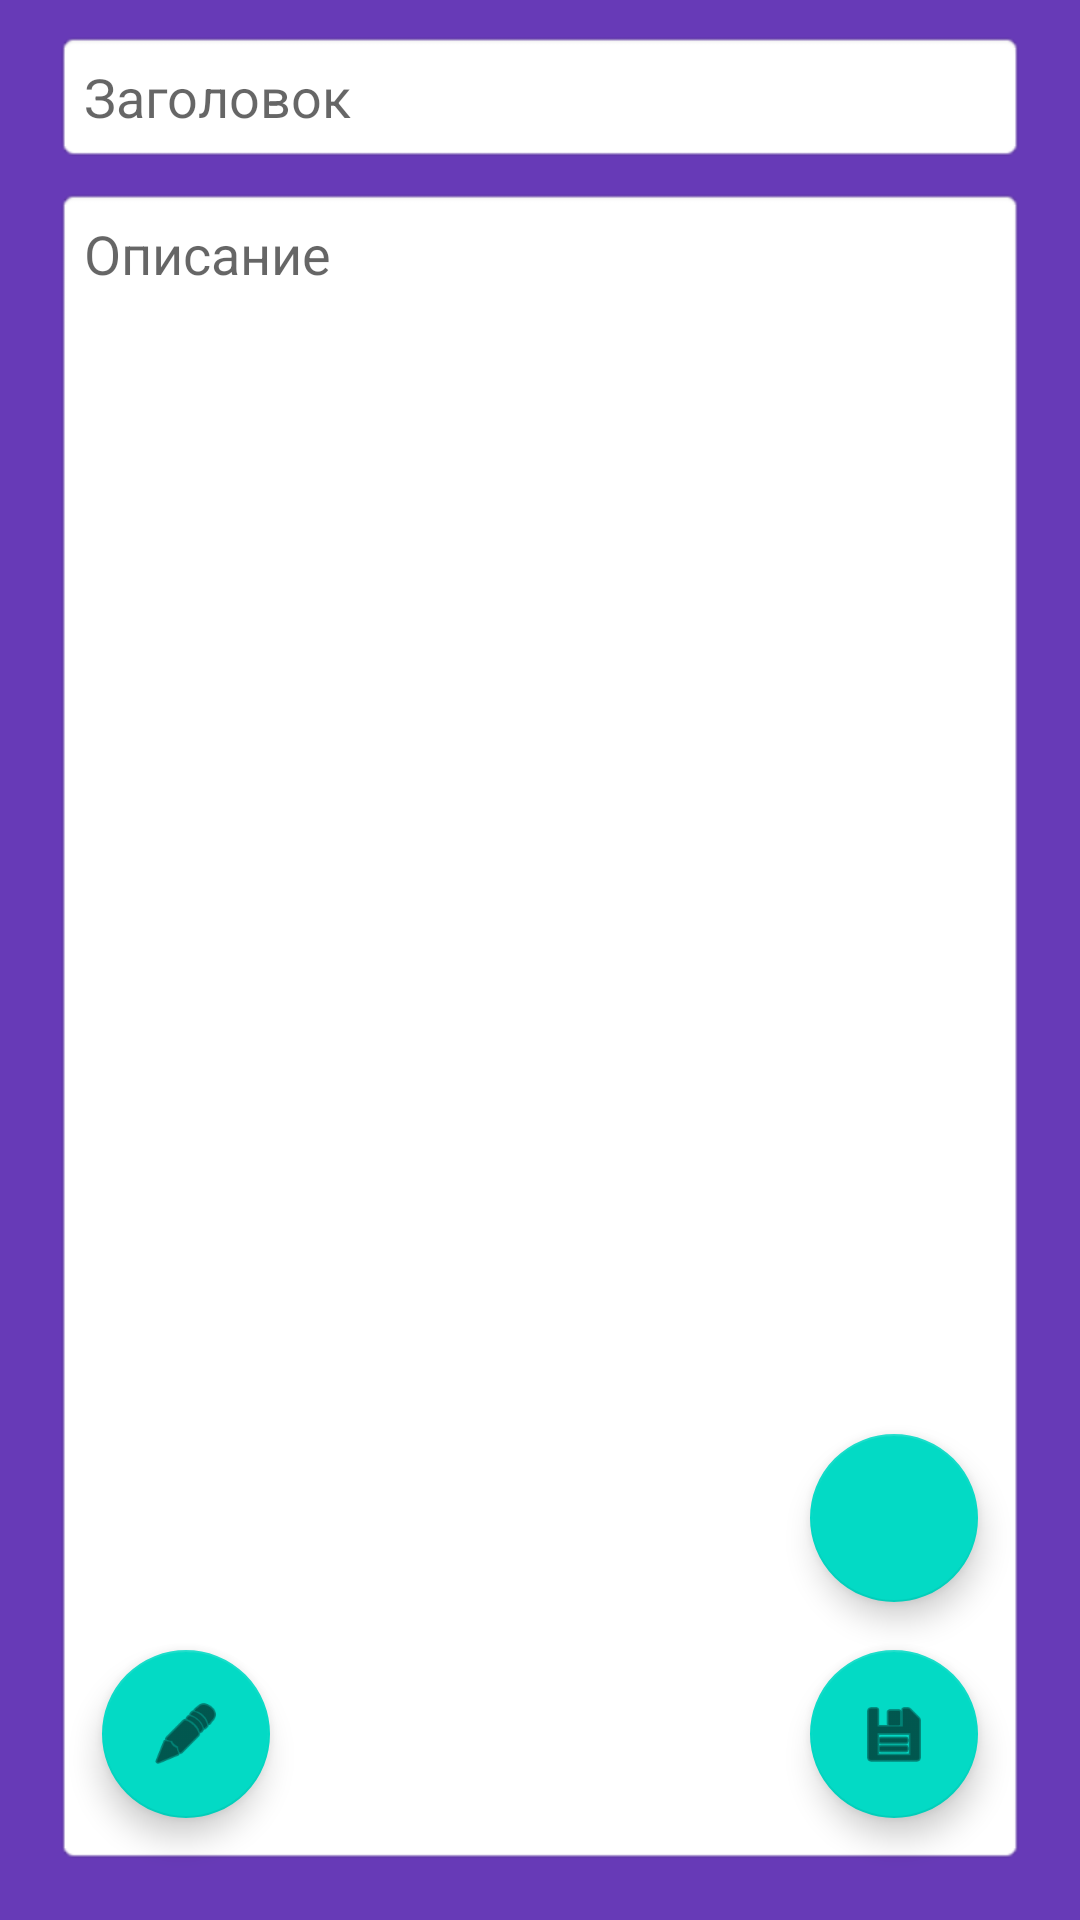

Named icons in this screenshot (1080w x 1920h) and their centers, (x=x, y=y):
edit: (x=186, y=1734)
save: (x=894, y=1734)
